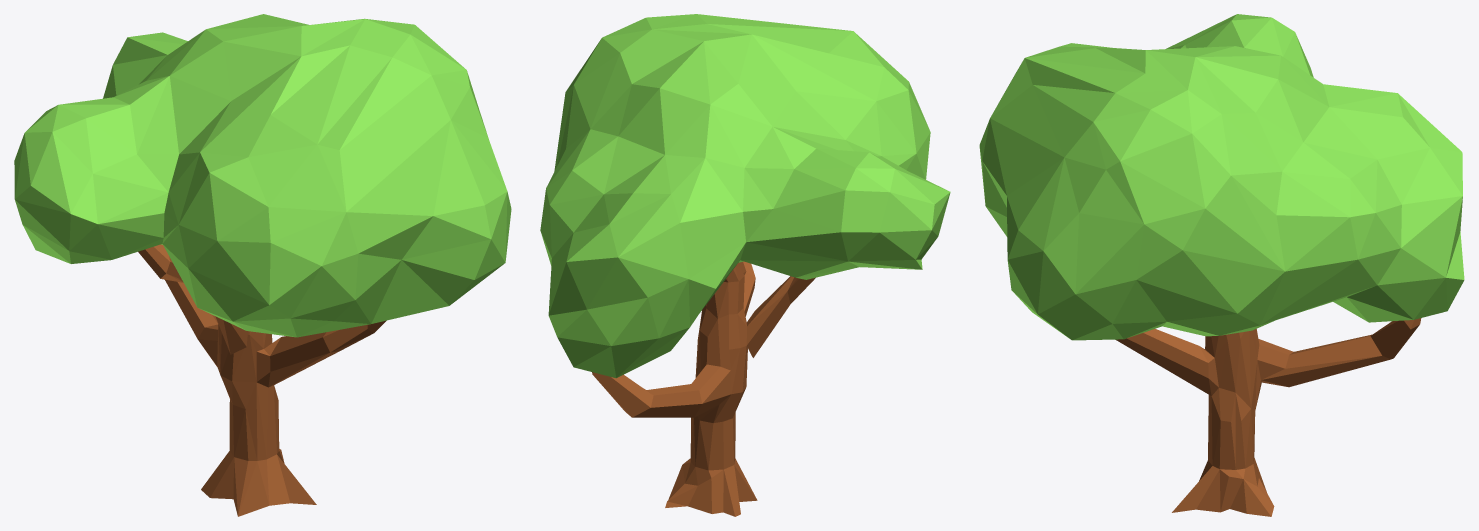
Rendered from Oak2.fbx.
3 renders of one model, left to right at view 1: azimuth 30°, elevation 25°; view 2: azimuth 150°, elevation 25°; view 3: azimuth 270°, elevation 25°, orthographic. The views are drawn at different scales.
Parts seen in each view (by area): view 1: Oak2; view 2: Oak2; view 3: Oak2.
Boxes of the visible parts, x1,y1,x2,y2 form: Oak2: (14, 14, 511, 516); Oak2: (540, 14, 950, 516); Oak2: (979, 14, 1464, 516).
Bounding box in the file's own units: 6553 × 7126 × 6784.
